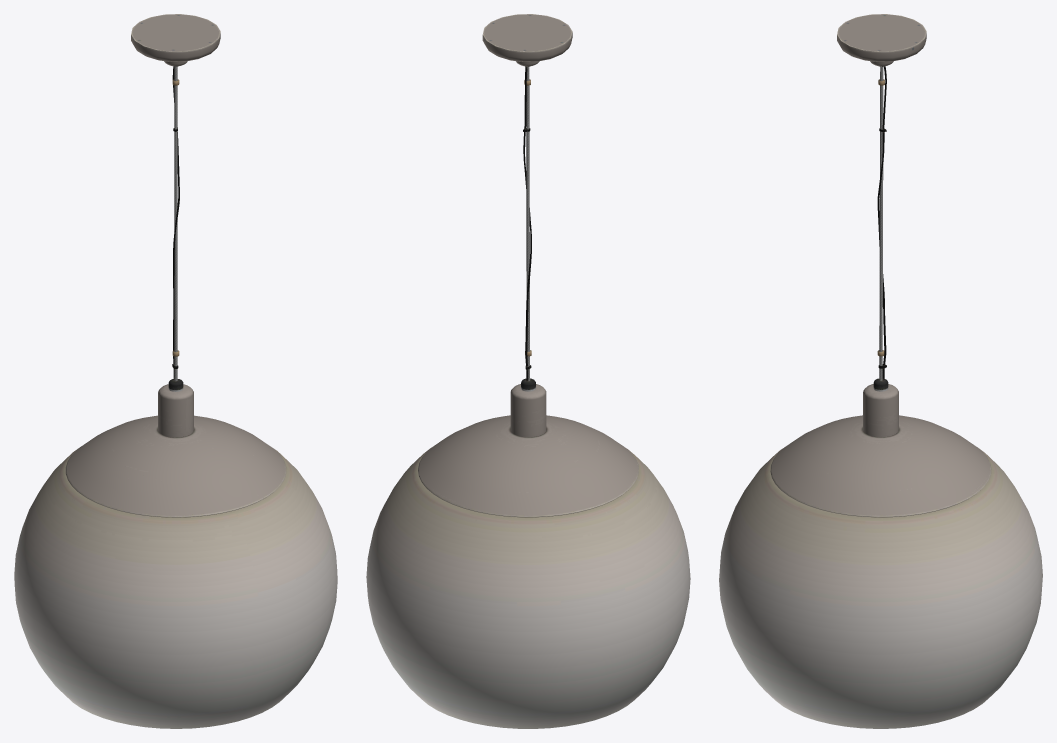
File: modern_ceiling_lamp_01_4k-v1.glb
3 renders of one model, left to right at view 1: azimuth 30°, elevation 25°; view 2: azimuth 150°, elevation 25°; view 3: azimuth 270°, elevation 25°, orthographic.
Parts seen in each view (by area): view 1: modern_ceiling_lamp_01; view 2: modern_ceiling_lamp_01; view 3: modern_ceiling_lamp_01.
Part boxes in pixels (<box>): modern_ceiling_lamp_01: <box>14,14,337,728</box>; modern_ceiling_lamp_01: <box>366,14,690,728</box>; modern_ceiling_lamp_01: <box>719,14,1042,728</box>.
Bounding box in the file's own units: 0.4316 × 0.9516 × 0.4317.
3 materials, 3 textured.
